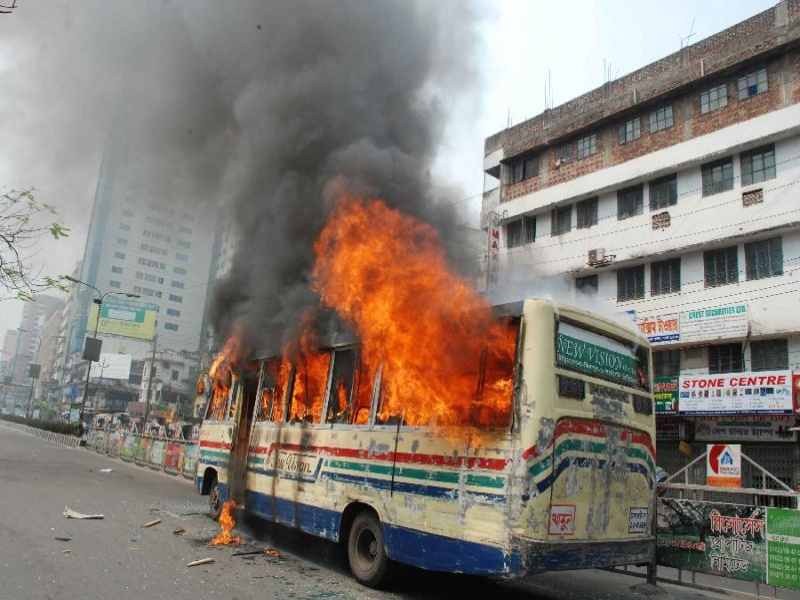smoke: (112, 1, 424, 196)
